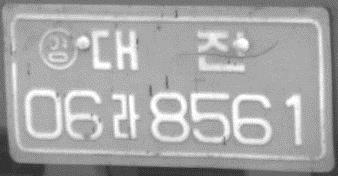0: (24, 86, 63, 139)
1: (283, 91, 307, 147)
5: (189, 89, 232, 145)
6: (231, 92, 274, 145), (63, 87, 102, 141)
8: (149, 90, 190, 145)
대전_D: (89, 26, 247, 75)
라: (110, 91, 140, 142)
영: (38, 27, 78, 69)
